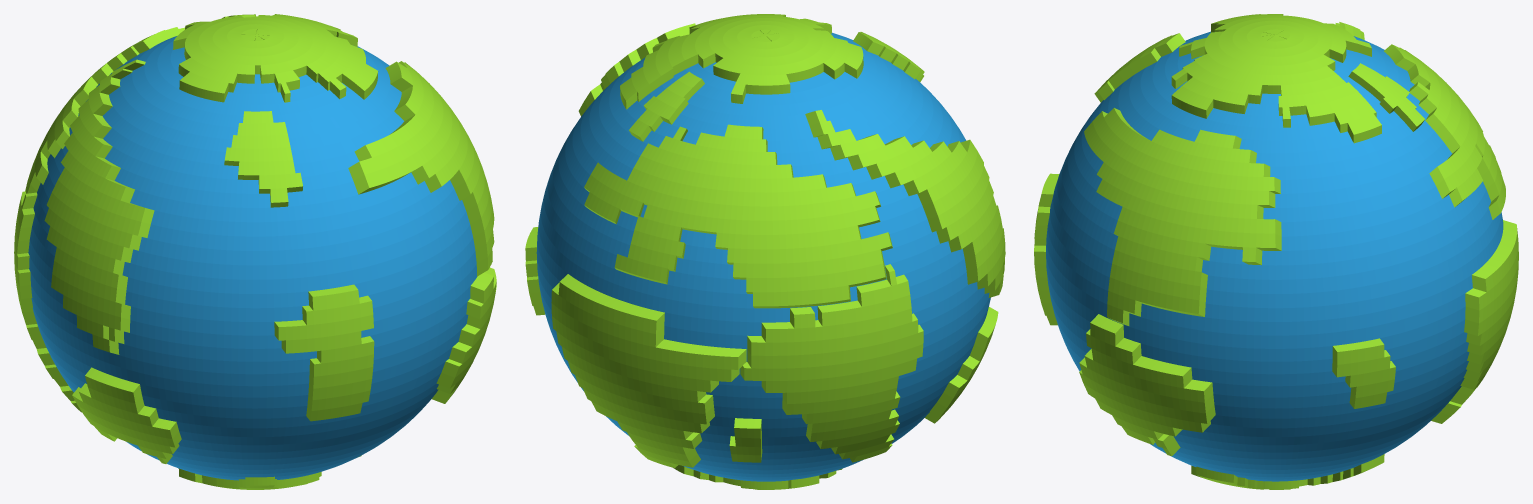
File: SmootherPlanet.fbx
The picture shows the model from 3 angles, left to right: view 1: azimuth 30°, elevation 25°; view 2: azimuth 150°, elevation 25°; view 3: azimuth 270°, elevation 25°; orthographic projection.
Parts seen in each view (by area): view 1: Sphere.003, Sphere.002; view 2: Sphere.002, Sphere.003; view 3: Sphere.003, Sphere.002.
Boxes of the visible parts, x1=… form: Sphere.003: x1=28, y1=36, x2=477, y2=480; Sphere.002: x1=14, y1=14, x2=496, y2=489; Sphere.002: x1=525, y1=14, x2=1005, y2=489; Sphere.003: x1=536, y1=32, x2=990, y2=481; Sphere.003: x1=1046, y1=31, x2=1503, y2=481; Sphere.002: x1=1034, y1=14, x2=1518, y2=489.
Bounding box in the file's own units: 207 × 209 × 212.
